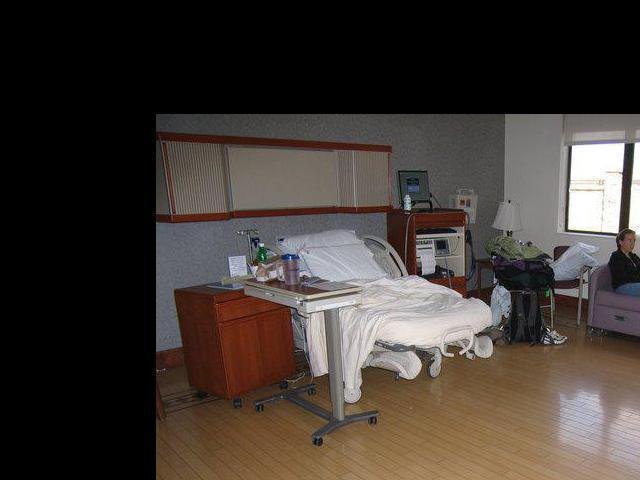Otro Obstaculo: (493, 255, 563, 348)
